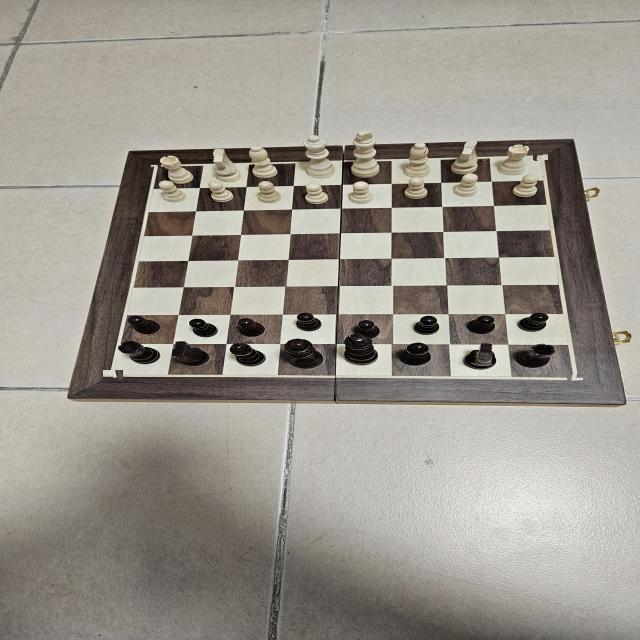chess-table-corners: (103, 370, 123, 379), (567, 374, 583, 382), (533, 152, 548, 160), (151, 164, 161, 168)
